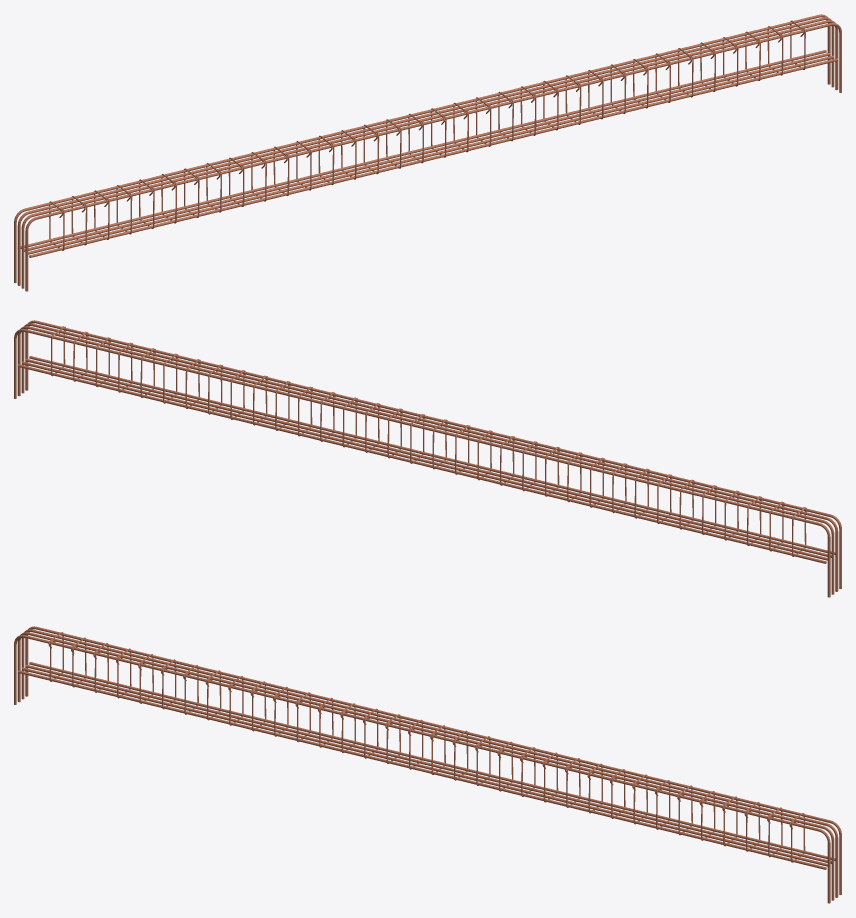
File: model_zbrojenie.glb
3 renders of one model, top to bottom at view 1: azimuth 30°, elevation 25°; view 2: azimuth 150°, elevation 25°; view 3: azimuth 330°, elevation 25°, orthographic.
Visible parts, largest first — view 1: Zbrojenie górne, Zbrojenie dolne, Strzemiona; view 2: Zbrojenie górne, Zbrojenie dolne, Strzemiona; view 3: Zbrojenie górne, Zbrojenie dolne, Strzemiona.
Part boxes in pixels (x1,y1,x2,y2): Zbrojenie górne: (14,14,841,291); Zbrojenie dolne: (20,50,838,257); Strzemiona: (49,20,805,250); Zbrojenie górne: (14,320,841,597); Zbrojenie dolne: (17,356,835,563); Strzemiona: (50,326,806,556); Zbrojenie górne: (14,626,841,903); Zbrojenie dolne: (17,662,835,869); Strzemiona: (48,632,805,862).
Size of what is drawn, in the model's own units: 5.35 by 0.455 by 0.16.
